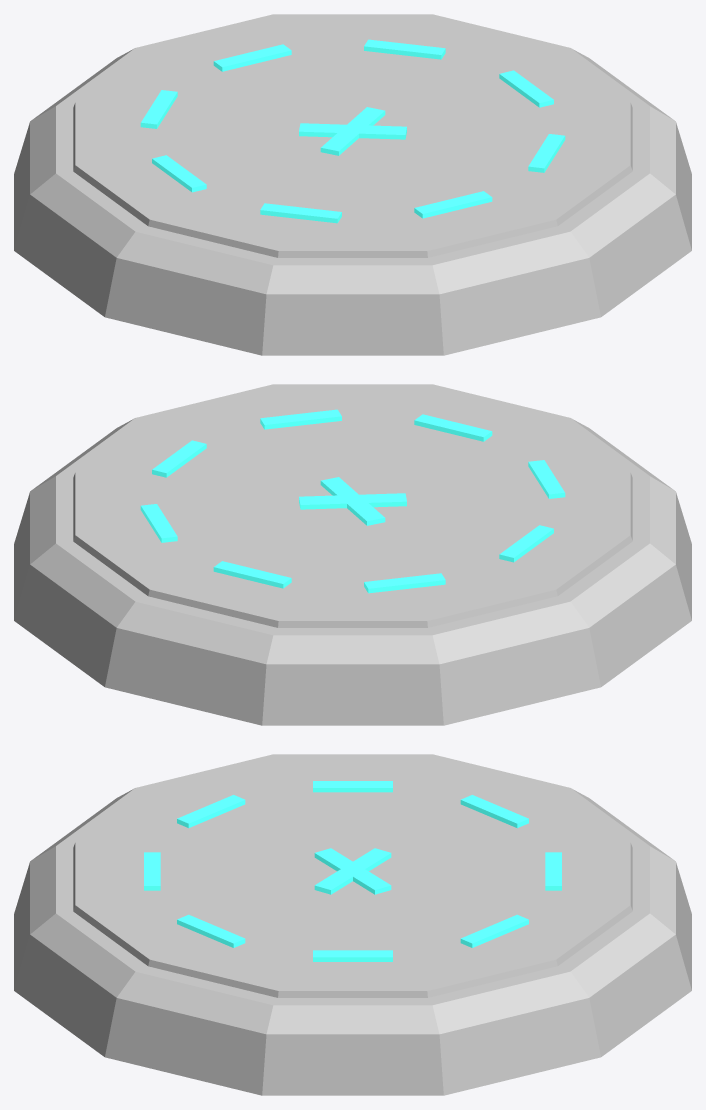
Rendered from rune_seal.glb.
3 renders of one model, top to bottom at view 1: azimuth 30°, elevation 25°; view 2: azimuth 150°, elevation 25°; view 3: azimuth 270°, elevation 25°, orthographic.
Visible parts, largest first — view 1: rune_seal; view 2: rune_seal; view 3: rune_seal.
Boxes of the visible parts, x1,y1,x2,y2 form: rune_seal: [14, 14, 691, 355]; rune_seal: [14, 384, 691, 725]; rune_seal: [14, 754, 691, 1095].
Bounding box in the file's own units: 2.03 × 0.275 × 2.03.
